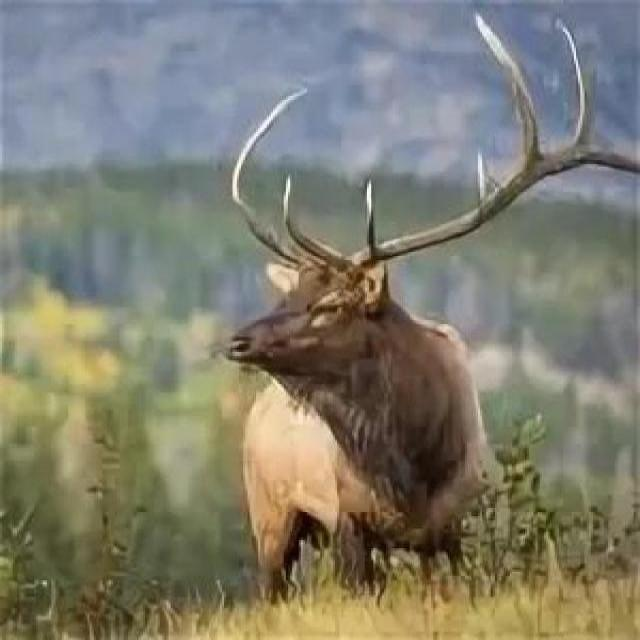deer: (117, 45, 640, 640)
